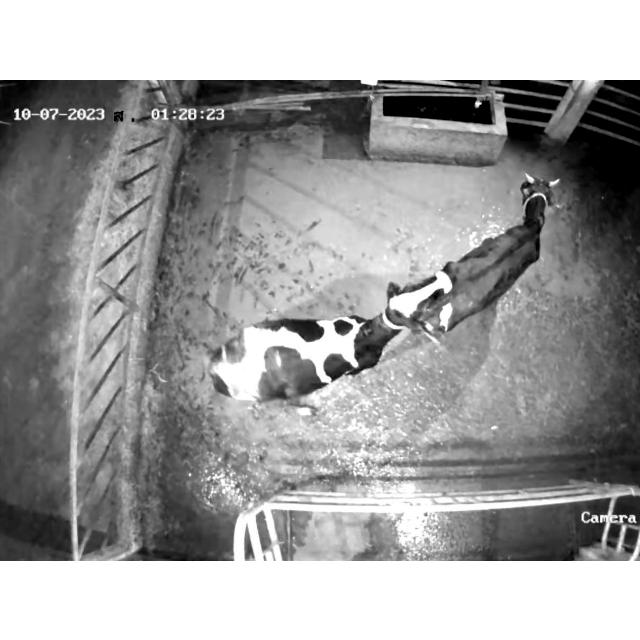propping: (338, 256, 486, 350)
